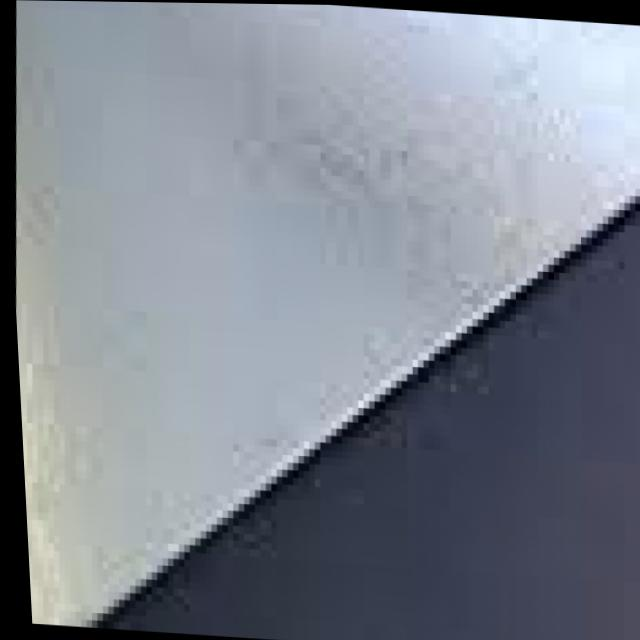metal-plates: (14, 1, 640, 629)
